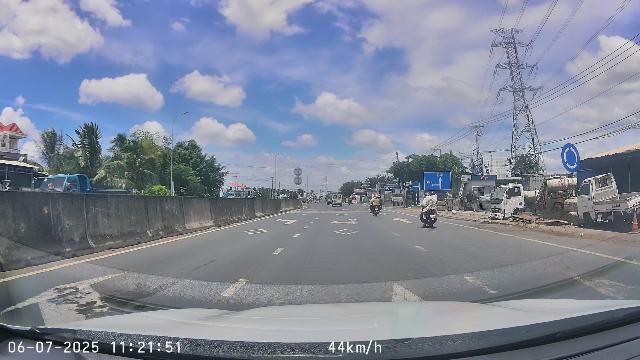301h-cac-xe-chi-duoc-di-thang-va-re-trai: (412, 181, 422, 192)
303-noi-giao-nhau-chay-theo-vong-xuyen: (561, 143, 580, 173)
